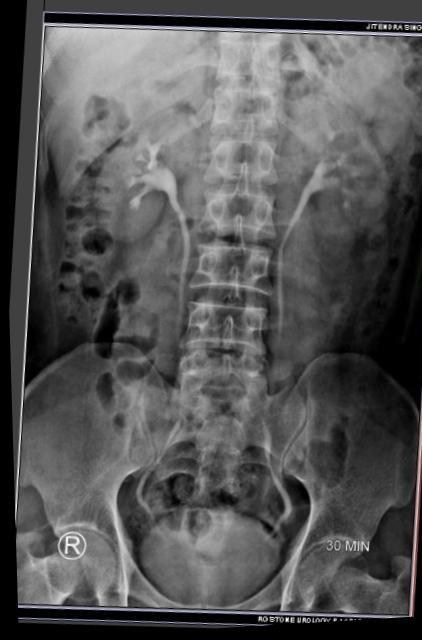bladder: (104, 500, 285, 635)
vertebrae: (185, 108, 276, 176)
